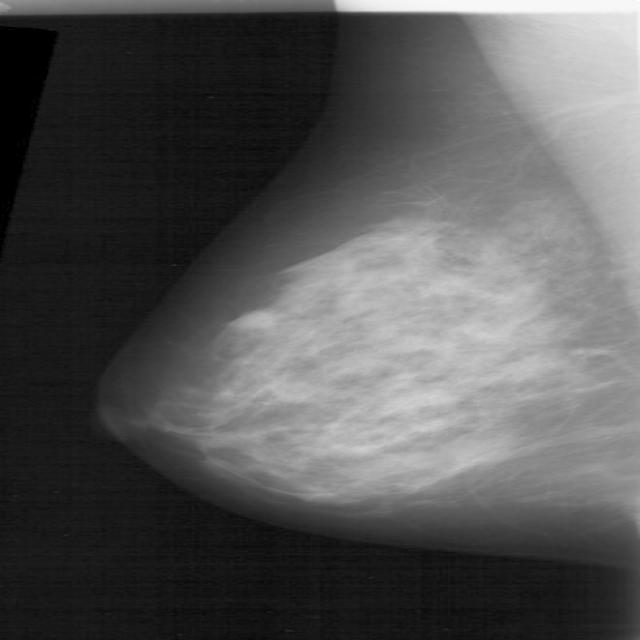tumour: (262, 379, 318, 402)
